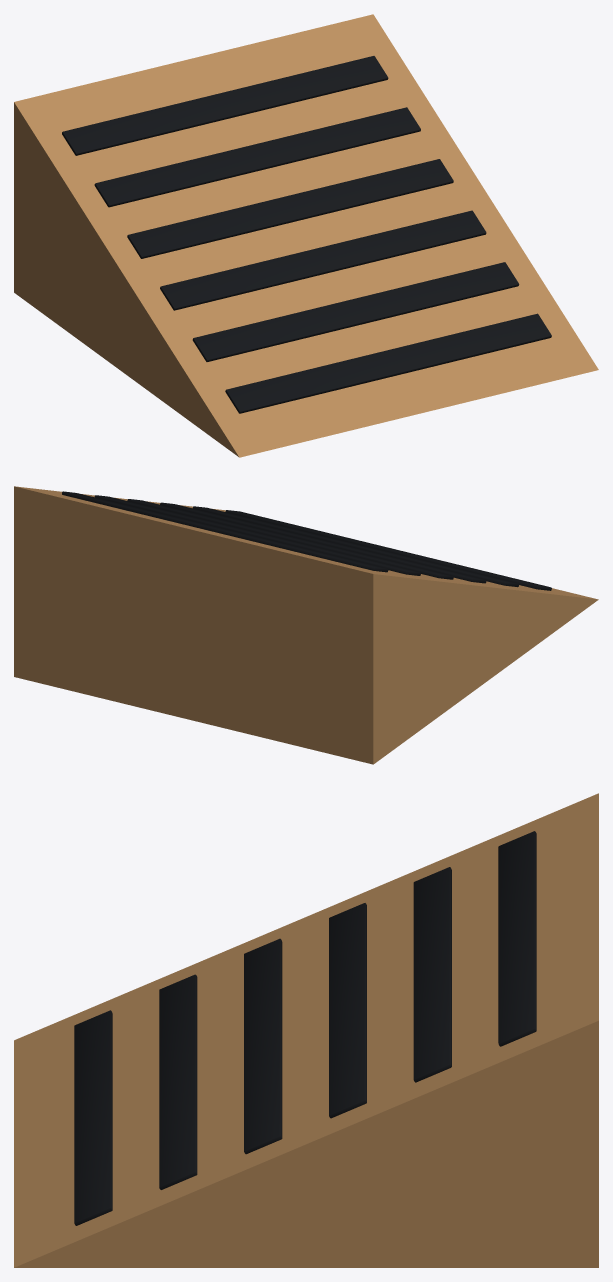
File: slant-board.glb
3 renders of one model, top to bottom at view 1: azimuth 30°, elevation 25°; view 2: azimuth 150°, elevation 25°; view 3: azimuth 270°, elevation 25°, orthographic. The views are drawn at different scales.
Parts seen in each view (by area): view 1: frame.wood, frame.rubber; view 2: frame.wood, frame.rubber; view 3: frame.wood, frame.rubber.
Boxes of the visible parts, x1,y1,x2,y2 form: frame.wood: (14, 14, 598, 457); frame.rubber: (62, 56, 551, 413); frame.wood: (14, 486, 598, 764); frame.rubber: (62, 491, 551, 590); frame.wood: (14, 793, 598, 1267); frame.rubber: (74, 831, 536, 1225).
Bounding box in the file's own units: 0.46 × 0.2332 × 0.5.
